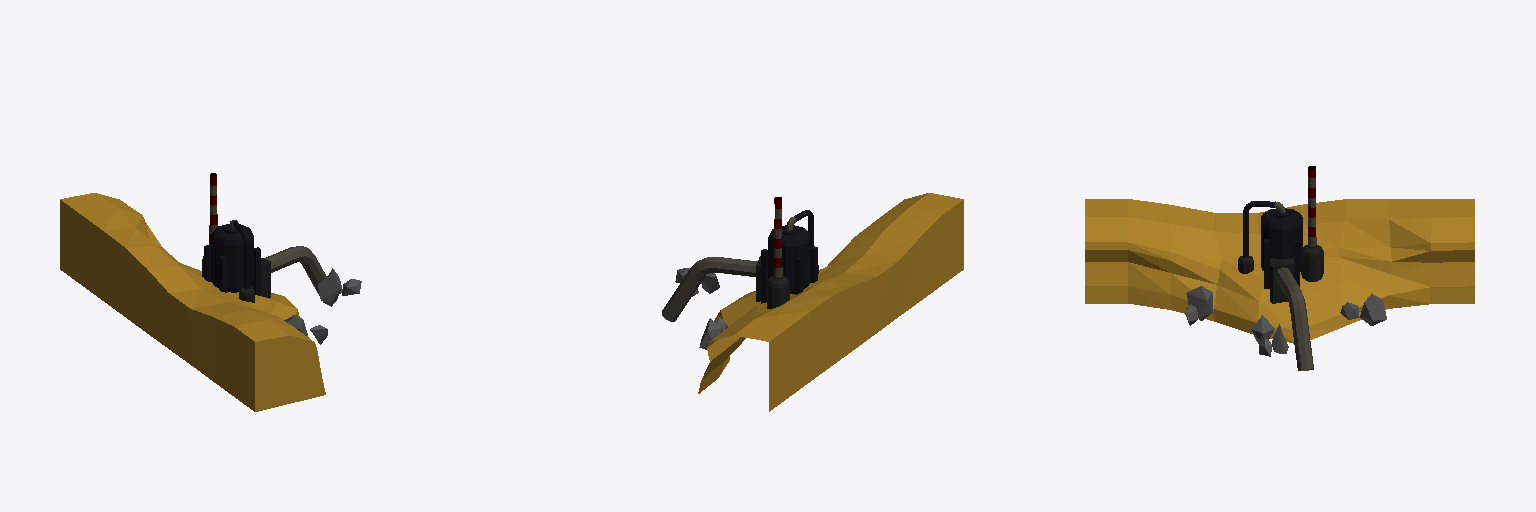
File: scenery_border_2.obj
The picture shows the model from 3 angles: view 1: azimuth 30°, elevation 25°; view 2: azimuth 150°, elevation 25°; view 3: azimuth 270°, elevation 25°; orthographic projection.
Parts seen in each view (by area): view 1: Plane.025_Plane.045, Cylinder.032_Cylinder.045, Circle.051_Circle.077, Cylinder.030_Cylinder.047; view 2: Plane.025_Plane.045, Circle.051_Circle.077, Cylinder.032_Cylinder.045, Cylinder.031_Cylinder.046; view 3: Plane.025_Plane.045, Cylinder.032_Cylinder.045, Circle.051_Circle.077, Cylinder.031_Cylinder.046, Cylinder.030_Cylinder.047, Cube.082_Cube.130, Icosphere.020_Icosphere.025, Icosphere.019_Icosphere.026.
Part boxes in pixels (x1,y1,x2,y2): Plane.025_Plane.045: (60, 193, 325, 411); Cylinder.032_Cylinder.045: (211, 224, 253, 292); Circle.051_Circle.077: (264, 246, 326, 303); Cylinder.030_Cylinder.047: (229, 220, 254, 302); Plane.025_Plane.045: (698, 193, 963, 411); Circle.051_Circle.077: (662, 257, 757, 321); Cylinder.032_Cylinder.045: (768, 225, 810, 293); Cylinder.031_Cylinder.046: (767, 197, 789, 308); Plane.025_Plane.045: (1085, 199, 1474, 343); Cylinder.032_Cylinder.045: (1261, 208, 1302, 270); Circle.051_Circle.077: (1275, 267, 1313, 370); Cylinder.031_Cylinder.046: (1300, 166, 1323, 281); Cylinder.030_Cylinder.047: (1238, 201, 1285, 273); Cube.082_Cube.130: (1270, 258, 1293, 303); Icosphere.020_Icosphere.025: (1186, 286, 1212, 320); Icosphere.019_Icosphere.026: (1360, 293, 1386, 325).
Bounding box in the file's own units: 233 × 172 × 400.